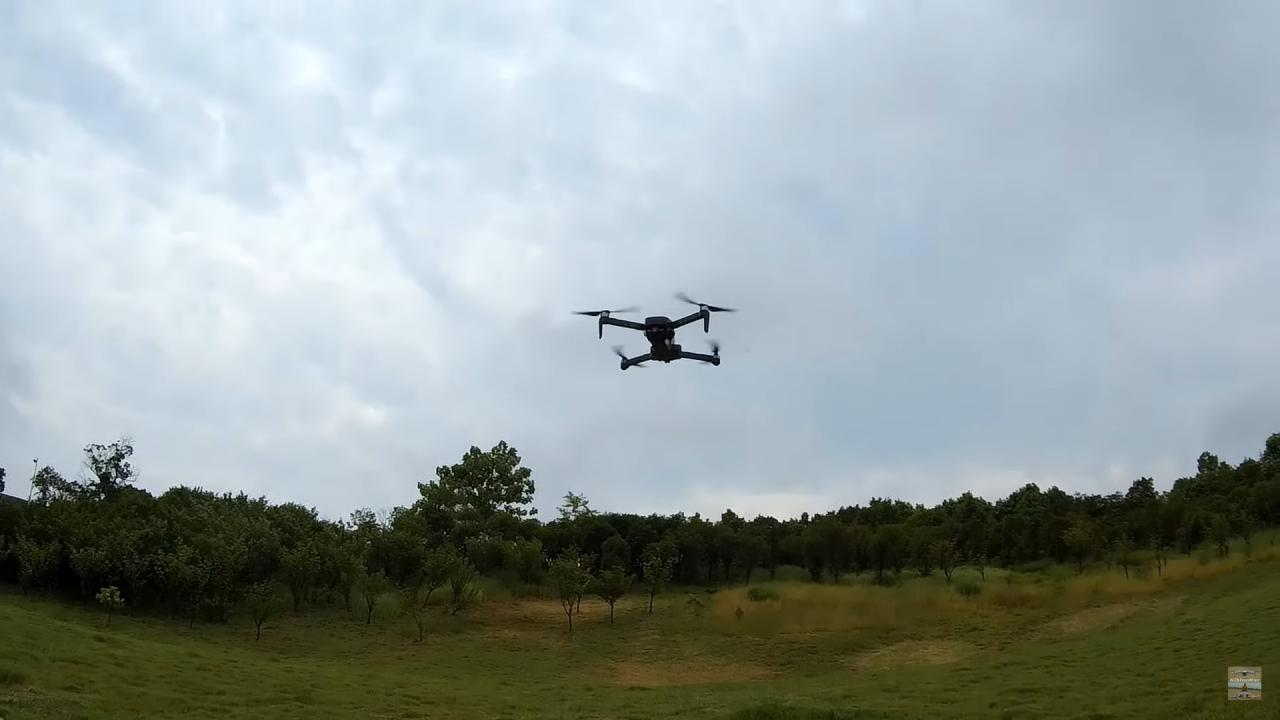Drone: (562, 277, 746, 383)
